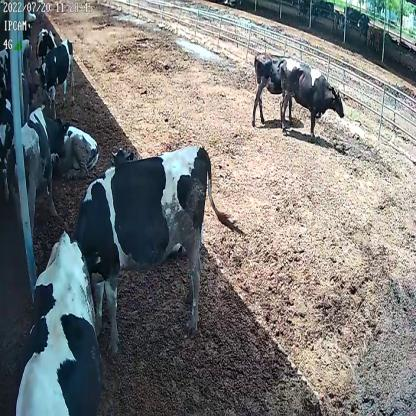cow: (72, 145, 241, 345), (9, 107, 71, 239), (276, 54, 346, 136), (252, 50, 295, 126), (40, 38, 76, 103), (35, 23, 56, 69)
